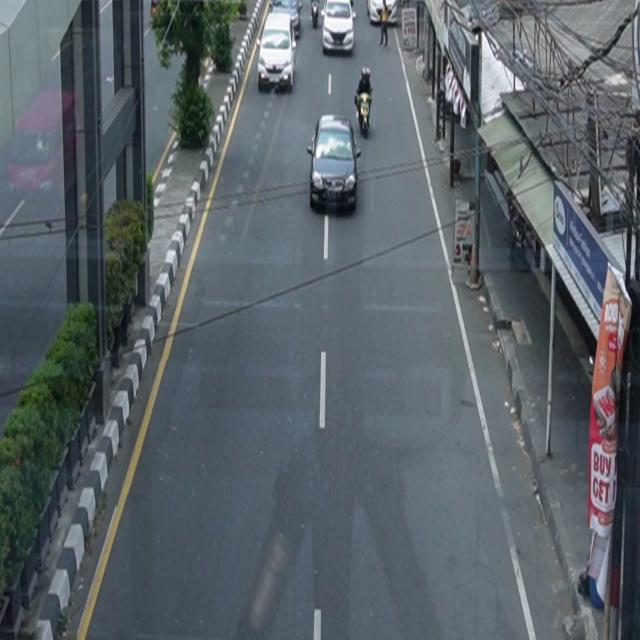car: (308, 115, 363, 215), (258, 13, 297, 94), (322, 1, 356, 56), (272, 1, 303, 39)
